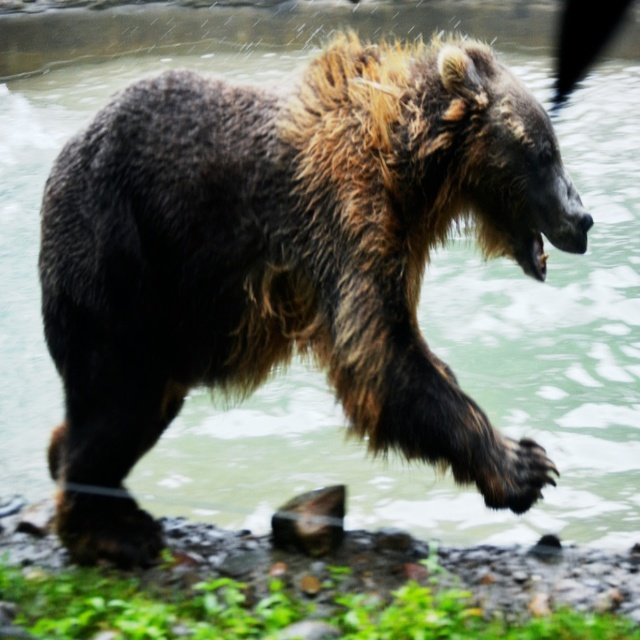Brown bear: (35, 26, 592, 578)
